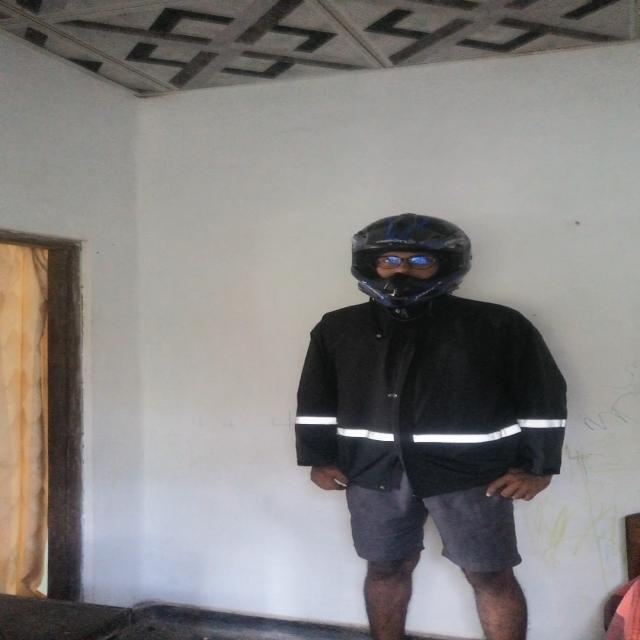Helmet_Wearer: (342, 213, 509, 311)
Jacket_Wearer: (296, 290, 587, 481)
Person: (291, 207, 574, 618)
